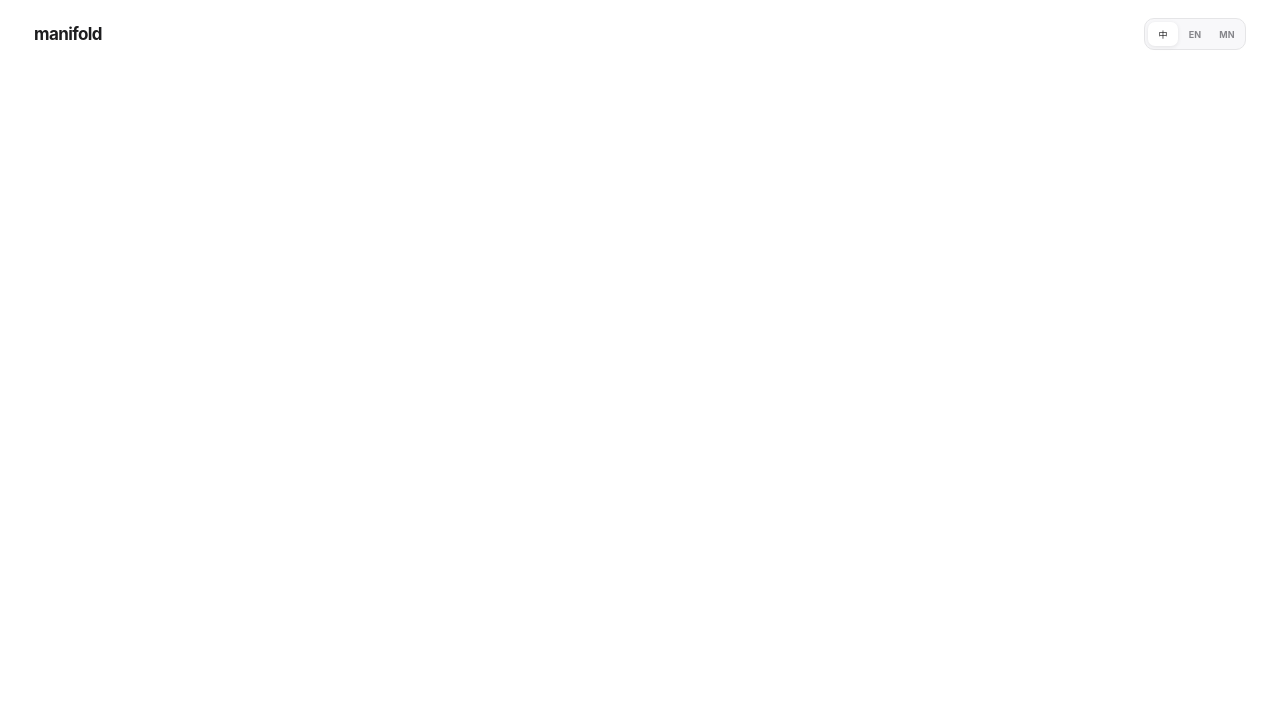
it: HomePage conversation entry › 可以在中文、英文和蒙古文之间即时切换
Click the button with aria-label "切换为英文" at (1195, 34), box [1180, 22, 1210, 46]
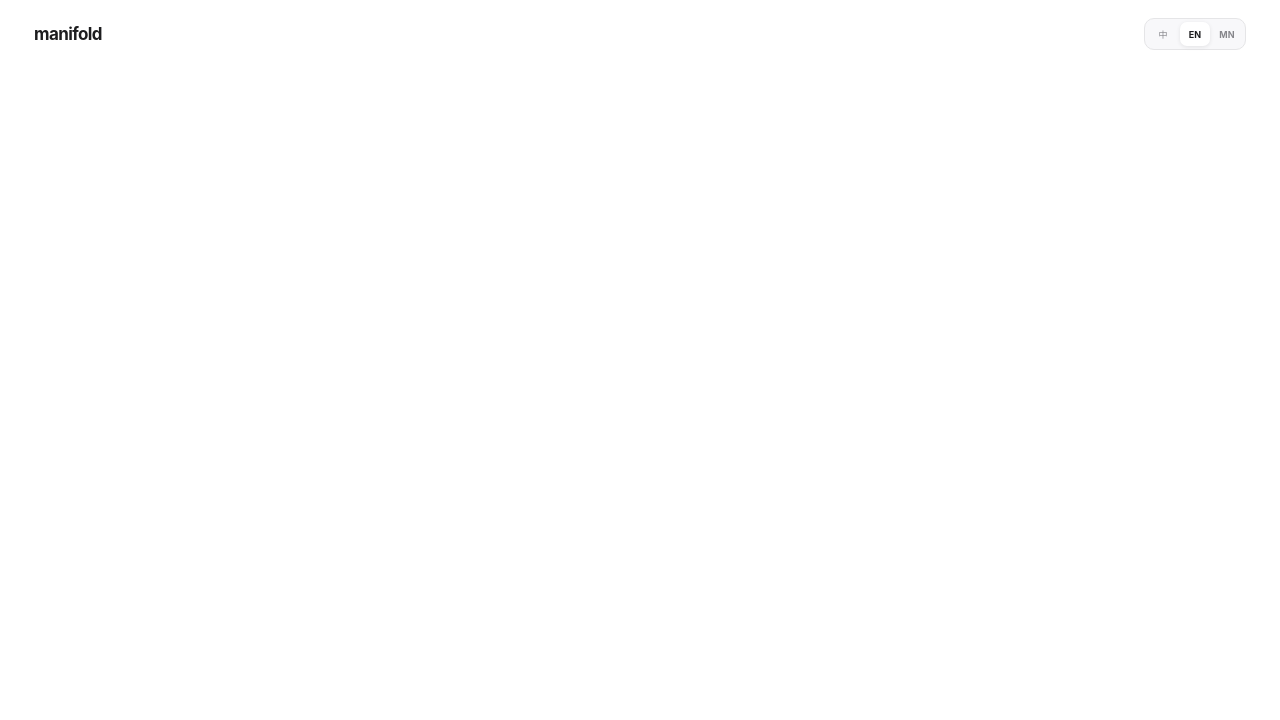
Click the button with aria-label "Switch to Mongolian" at (1227, 34), box [1212, 22, 1242, 46]
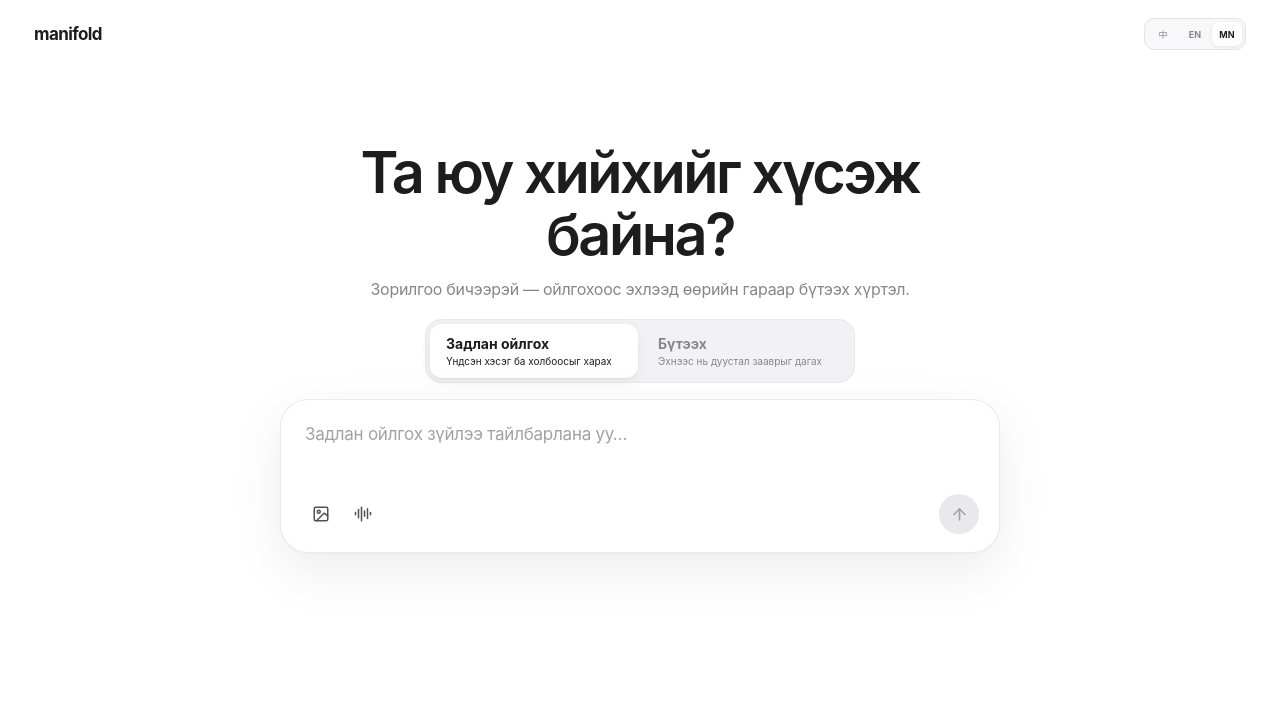
Now the heading "Та юу хийхийг хүсэж байна?" is shown, box [360, 137, 920, 269]
